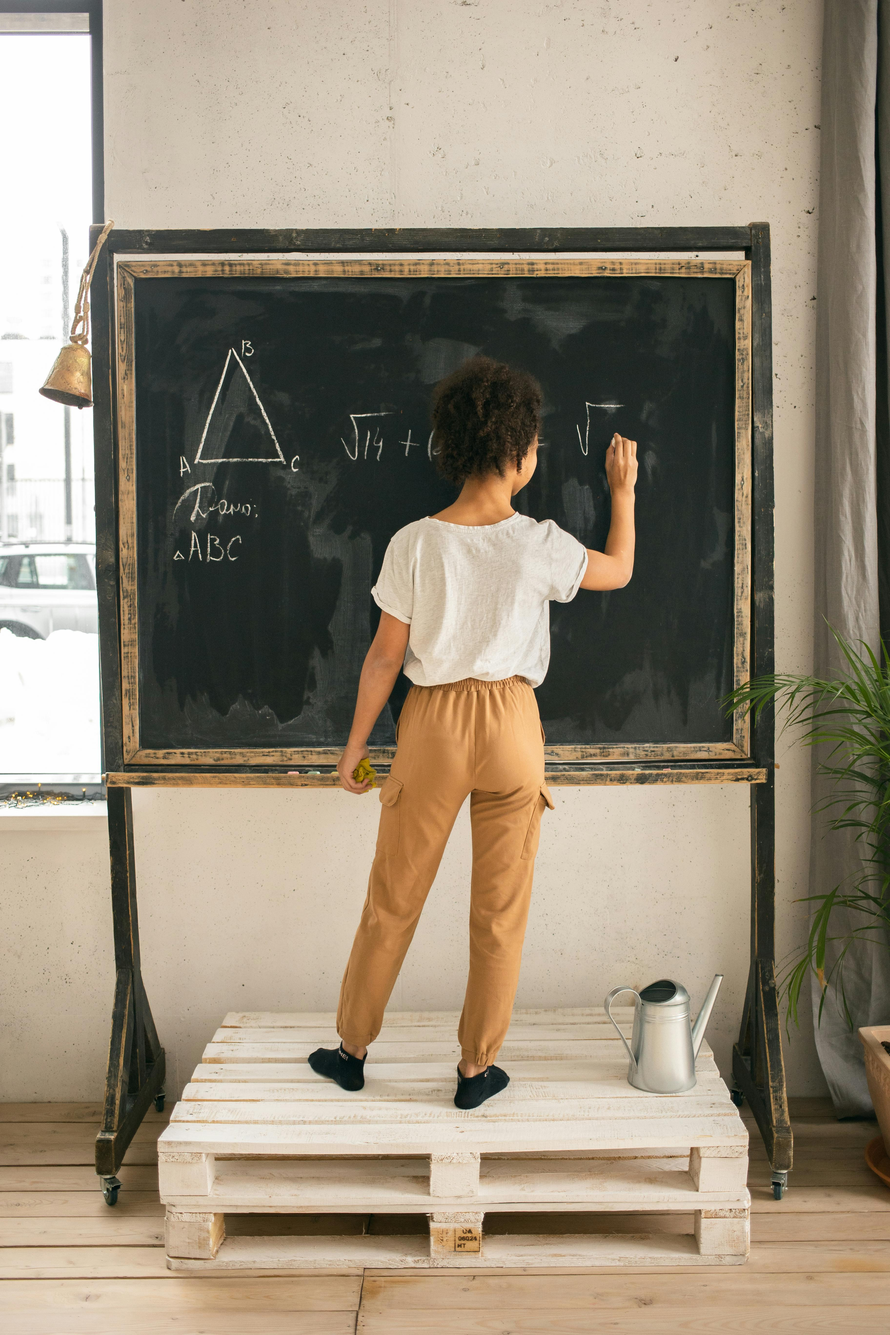Human: (311, 377, 644, 1110)
